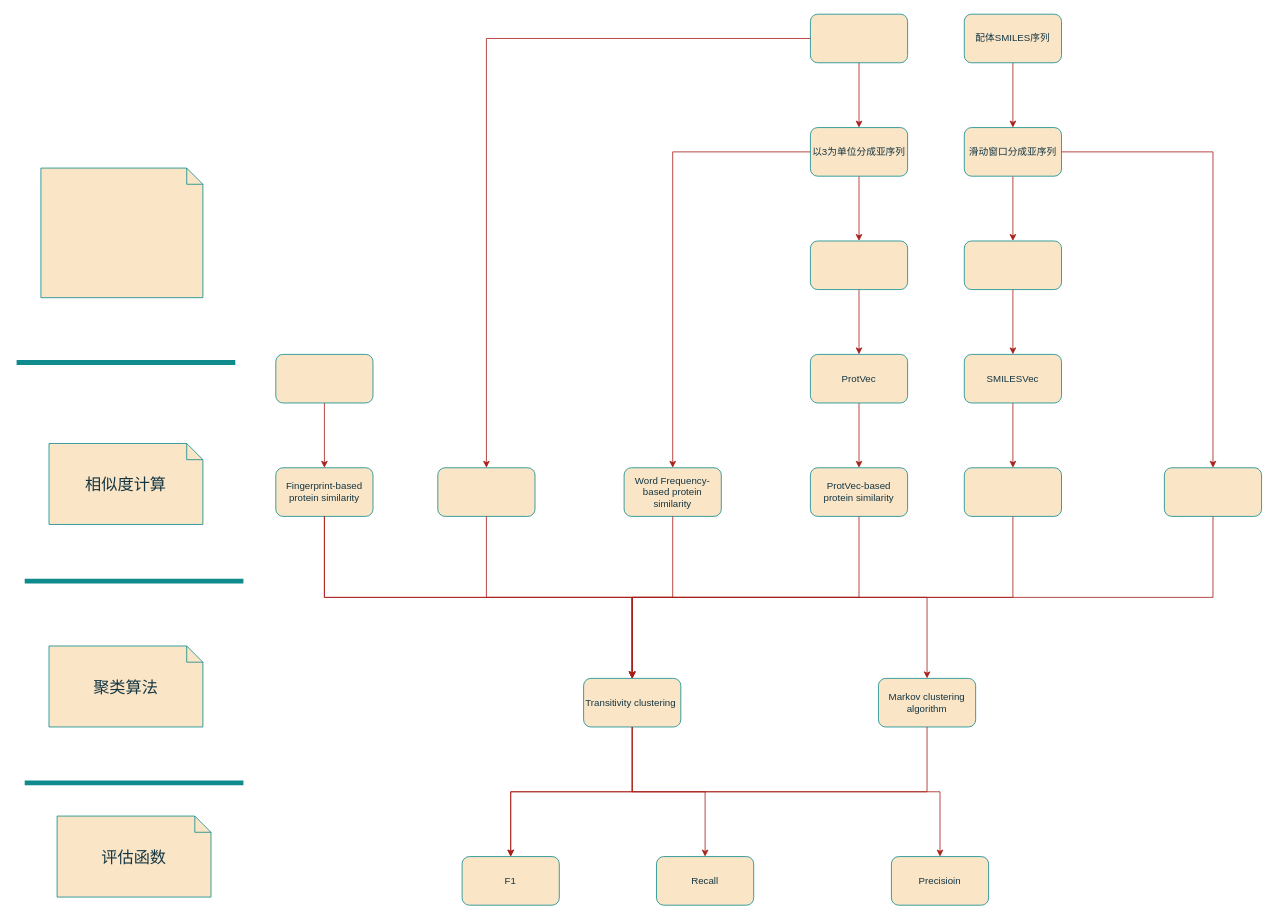
Some shapes in this 1276 by 919 pixel diagram are drawn without their labels. The shapes that lost their labels are listed below. From the top down, each one's centre as x and y in pixels, then its label:
the point at 859,38: 蛋白质fasta序列
the point at 121,232: 原始数据处理
the point at 859,265: Word2vec模型编码
the point at 1012,265: WordVec模型编码
the point at 324,378: 1. MACCS 2. ECFP
the point at 486,491: blast
the point at 1012,491: SMILESVec-based protein similarity
the point at 1213,491: SMILES Word Frequency-based protein-similarity
